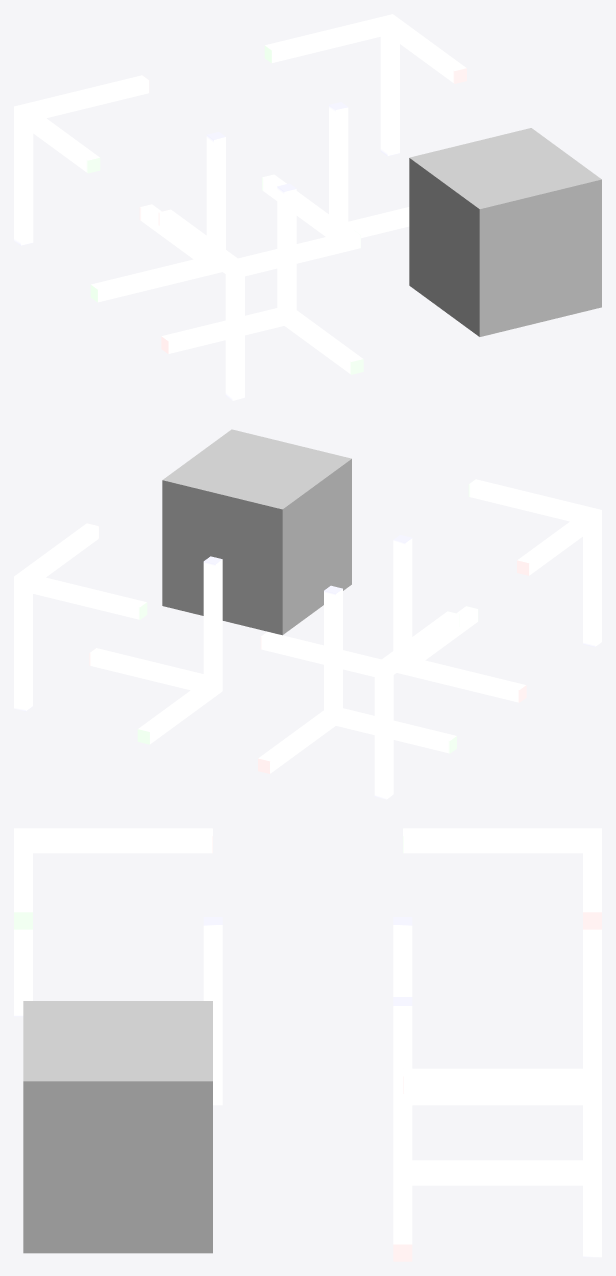
File: TestAxes.gltf
3 renders of one model, top to bottom at view 1: azimuth 30°, elevation 25°; view 2: azimuth 150°, elevation 25°; view 3: azimuth 270°, elevation 25°, orthographic. The views are drawn at different scales.
Parts seen in each view (by area): view 1: Cube.006, Axis.005, Axis.001, Axis.003, Axis.004, Axis.002, Axis; view 2: Cube.006, Axis.003, Axis, Axis.001, Axis.005, Axis.002, Axis.004; view 3: Cube.006, Axis.001, Axis, Axis.005, Axis.003, Axis.002, Axis.004.
Part boxes in pixels (x1=…): Cube.006: x1=409, y1=128, x2=601, y2=336; Axis.005: x1=158, y1=209, x2=360, y2=400; Axis.001: x1=264, y1=14, x2=466, y2=156; Axis.003: x1=14, y1=75, x2=149, y2=245; Axis.004: x1=161, y1=183, x2=363, y2=374; Axis.002: x1=90, y1=132, x2=225, y2=302; Axis: x1=262, y1=102, x2=409, y2=238; Cube.006: x1=162, y1=429, x2=351, y2=635; Axis.003: x1=260, y1=611, x2=459, y2=799; Axis: x1=89, y1=556, x2=222, y2=744; Axis.001: x1=14, y1=523, x2=147, y2=711; Axis.005: x1=468, y1=479, x2=601, y2=646; Axis.002: x1=258, y1=585, x2=456, y2=773; Axis.004: x1=393, y1=535, x2=526, y2=702; Cube.006: x1=23, y1=1001, x2=212, y2=1253; Axis.001: x1=403, y1=992, x2=601, y2=1257; Axis: x1=393, y1=997, x2=582, y2=1261; Axis.005: x1=14, y1=828, x2=212, y2=1016; Axis.003: x1=403, y1=828, x2=601, y2=992; Axis.002: x1=393, y1=917, x2=582, y2=1105; Axis.004: x1=203, y1=917, x2=222, y2=1105.
Bounding box in the file's own units: 3.1 × 1.1 × 3.1.
